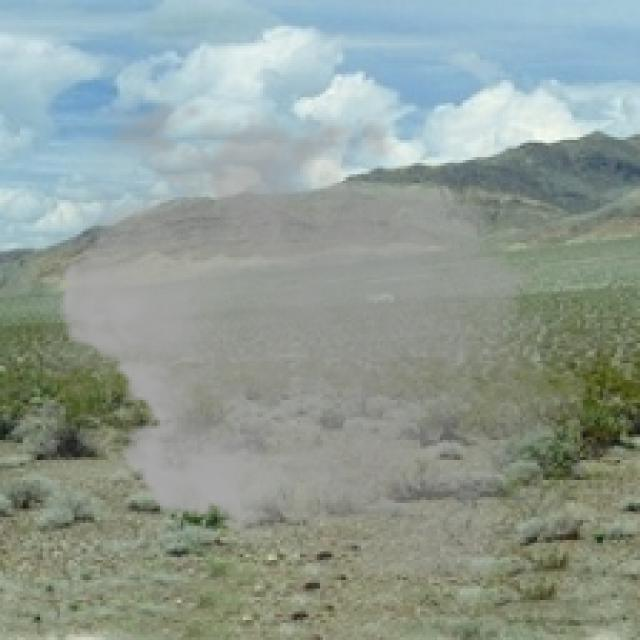smoke: (43, 83, 611, 597)
